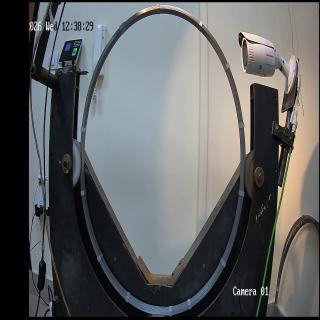clamp: (197, 20, 203, 33), (220, 257, 227, 268), (223, 62, 230, 73), (97, 252, 103, 263), (122, 21, 127, 33), (119, 24, 124, 36), (125, 291, 130, 303), (187, 298, 192, 310), (80, 189, 87, 197), (238, 189, 245, 197), (238, 122, 245, 130), (80, 126, 86, 134), (157, 3, 160, 15), (169, 305, 172, 317)
